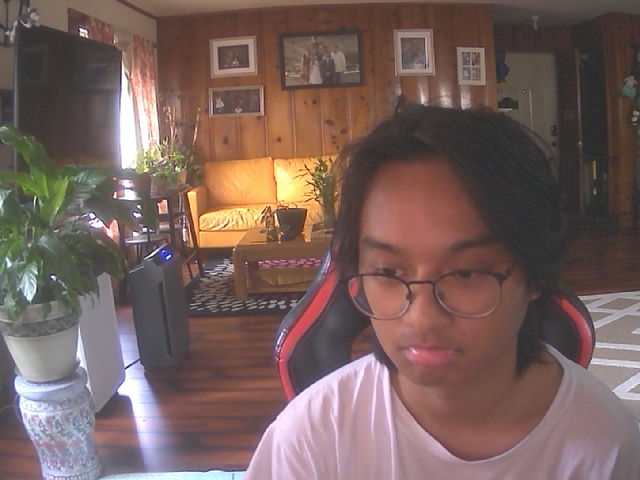sad: (335, 140, 552, 391)
